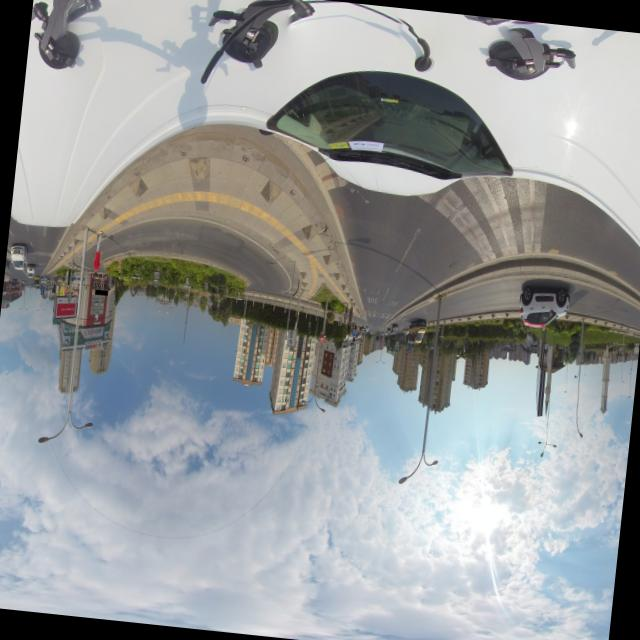SignStore: (94, 289, 107, 293)
